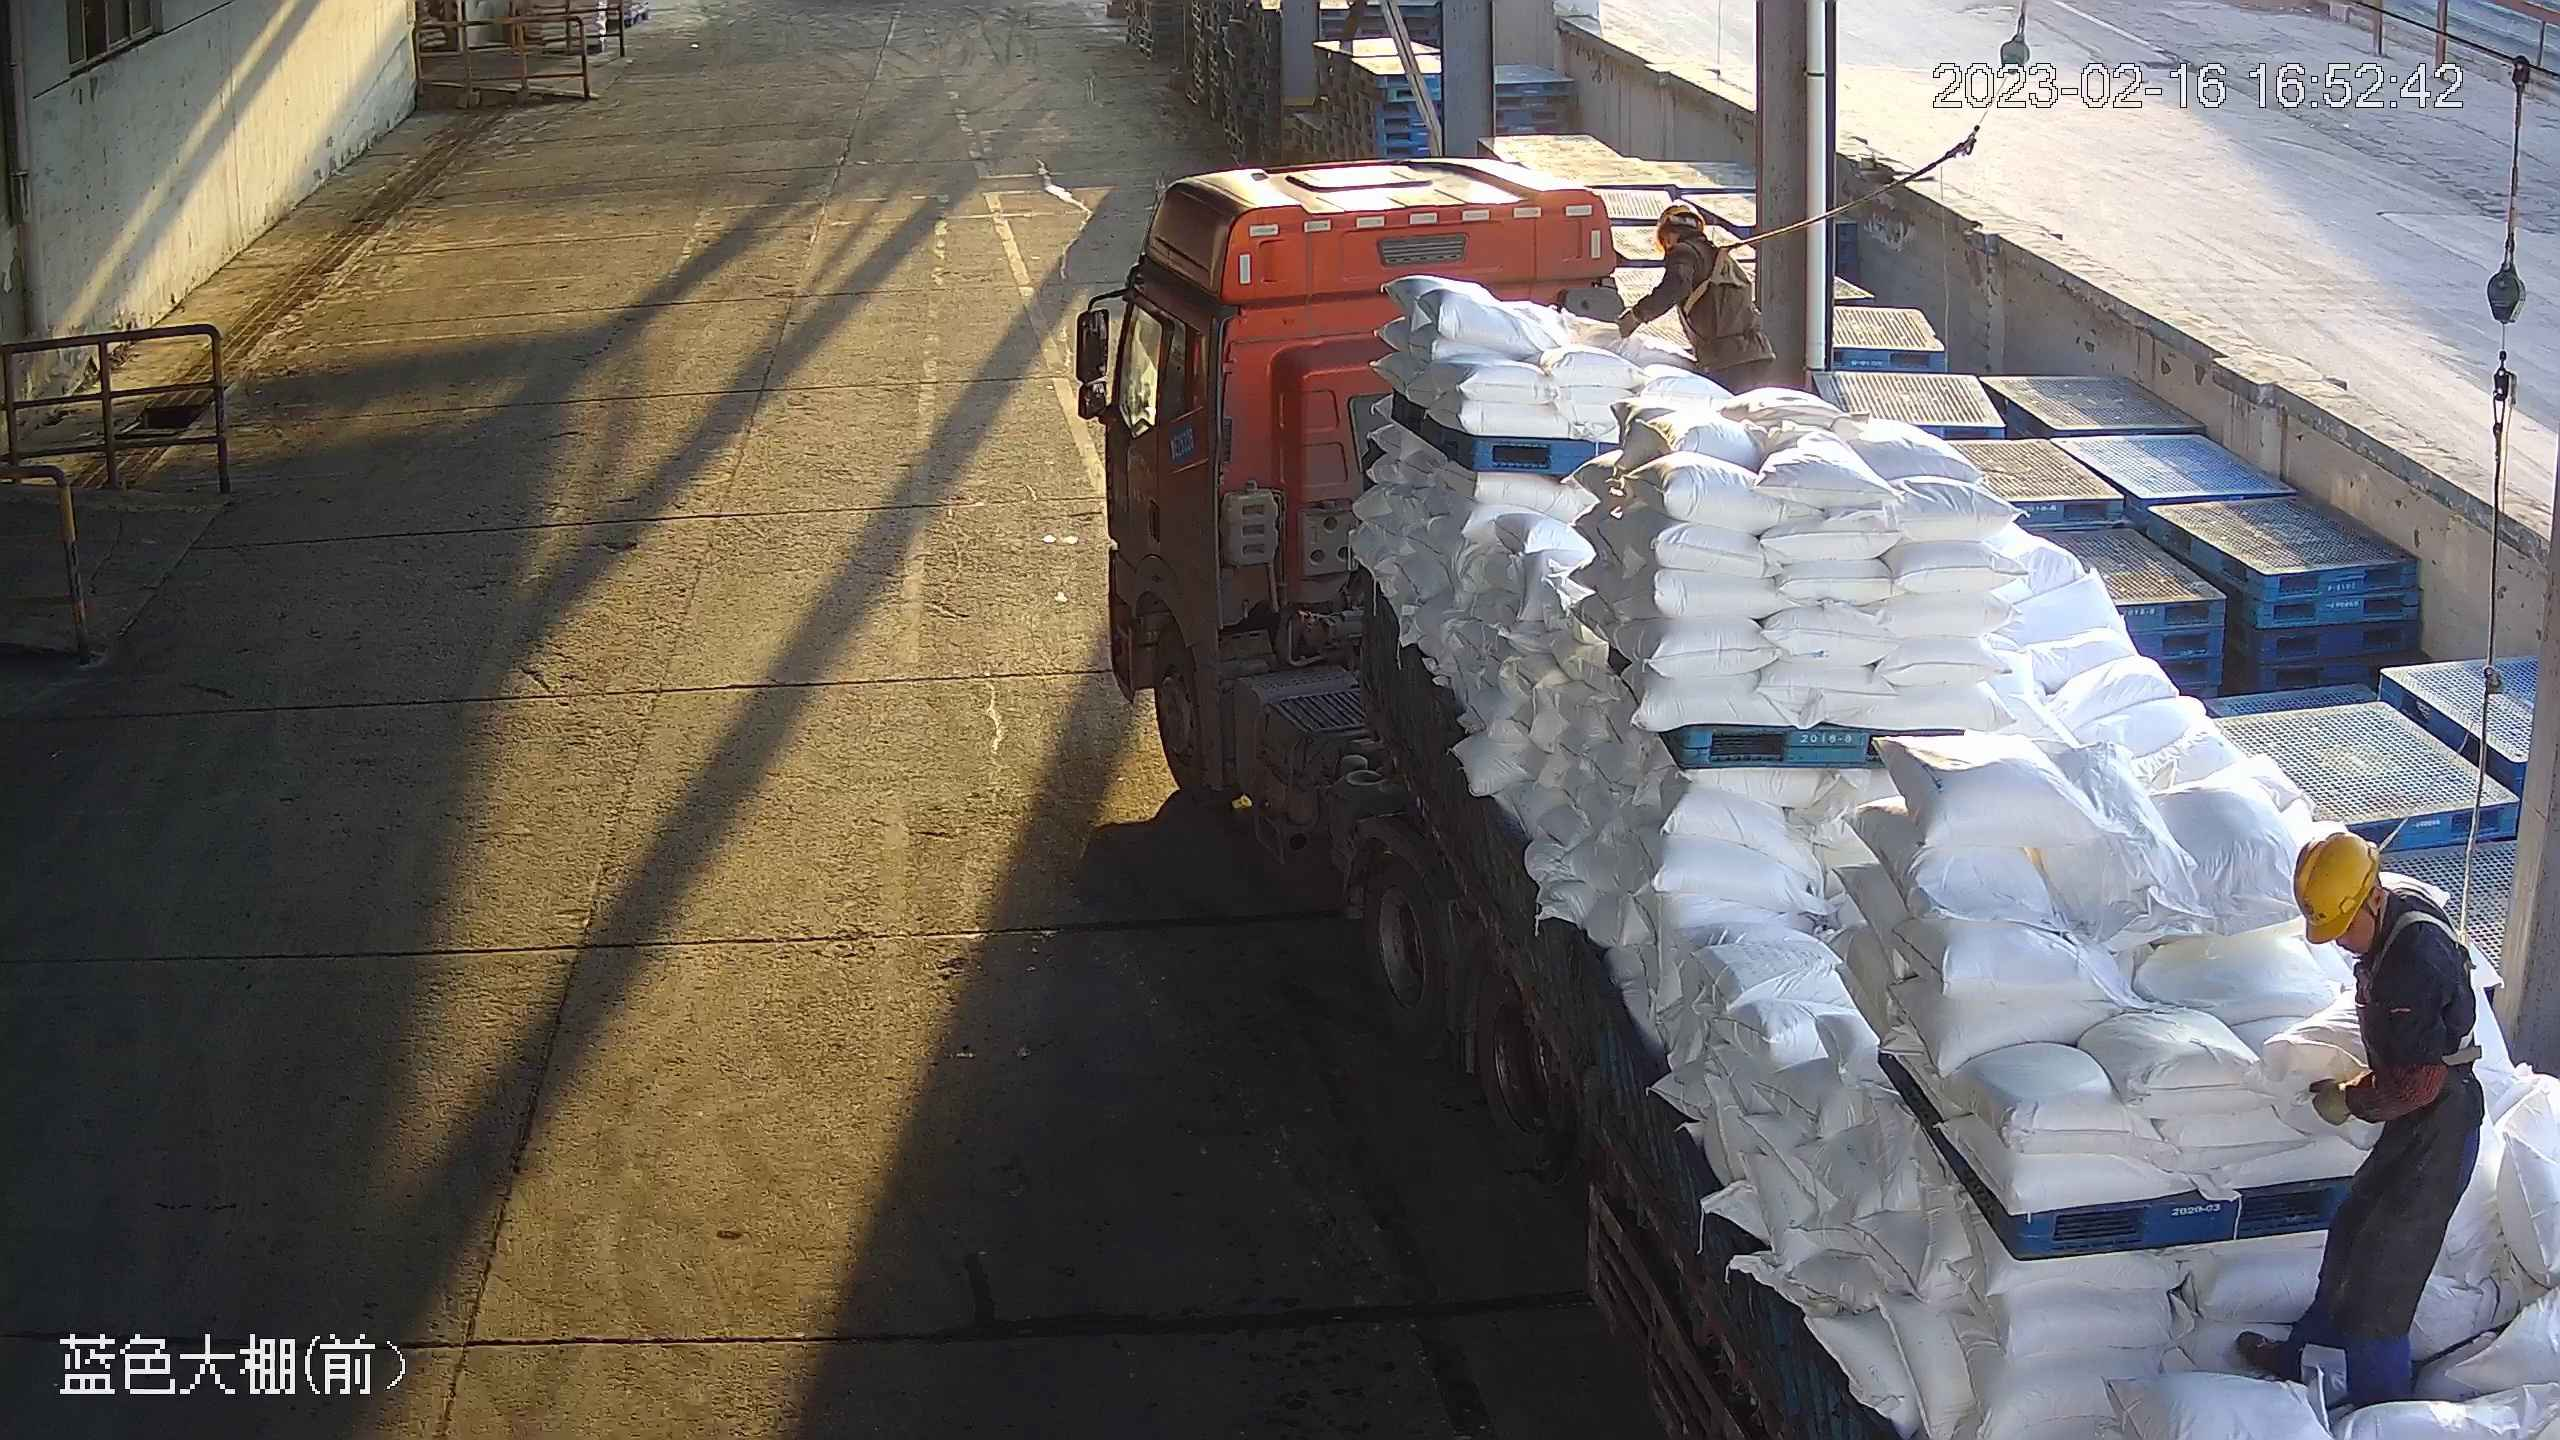belt: (2375, 894, 2473, 979), (1685, 229, 1759, 307)
head: (2281, 838, 2472, 982), (1651, 203, 1749, 284)
helmet: (2285, 821, 2377, 940), (1653, 199, 1716, 244)
people: (2256, 827, 2473, 1425)
truck: (1061, 145, 2560, 1440)
